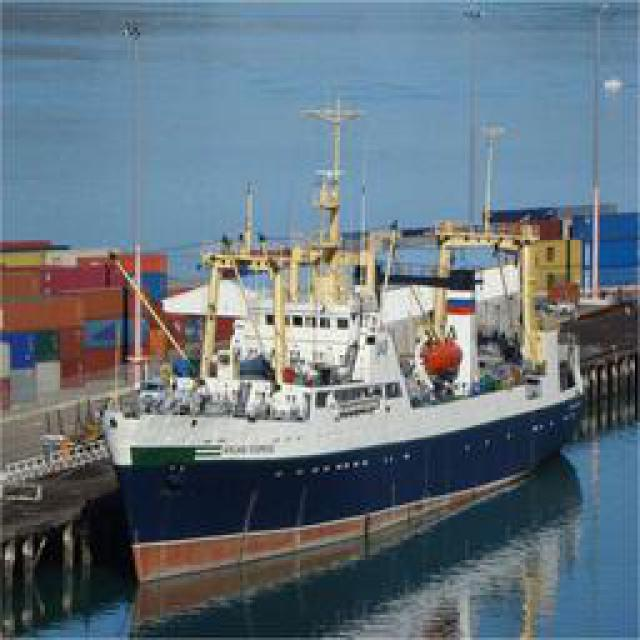Ship: (93, 83, 591, 558)
